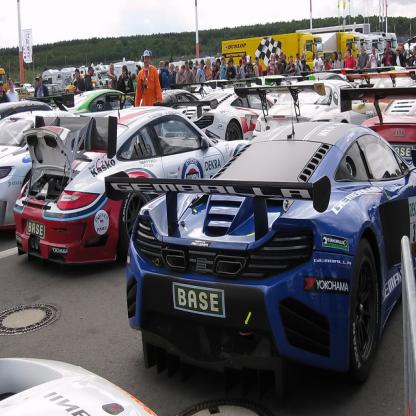Car: (0, 64, 415, 386)
